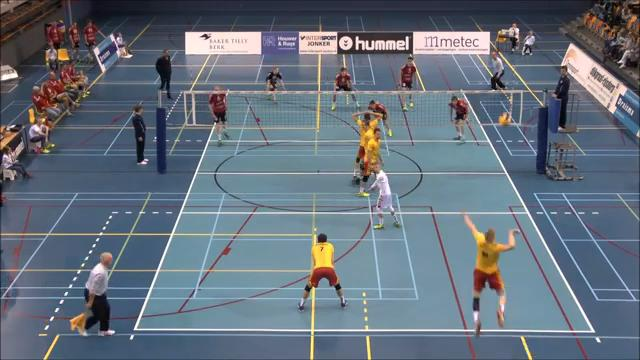battuta: (458, 208, 520, 342)
